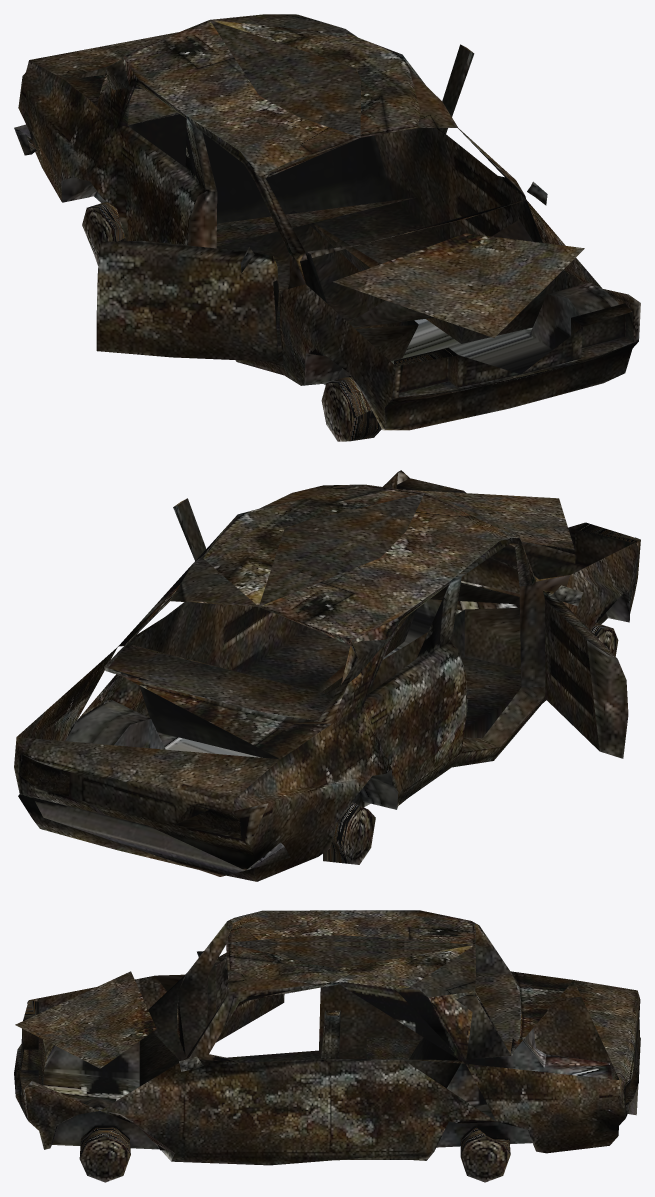
The model's file is broken_car.glb.
The picture shows the model from 3 angles, top to bottom: view 1: azimuth 30°, elevation 25°; view 2: azimuth 150°, elevation 25°; view 3: azimuth 270°, elevation 25°; orthographic projection. The views are drawn at different scales.
Bounding box in the file's own units: 1.38 × 0.7301 × 2.3.
1 material, 1 textured.
